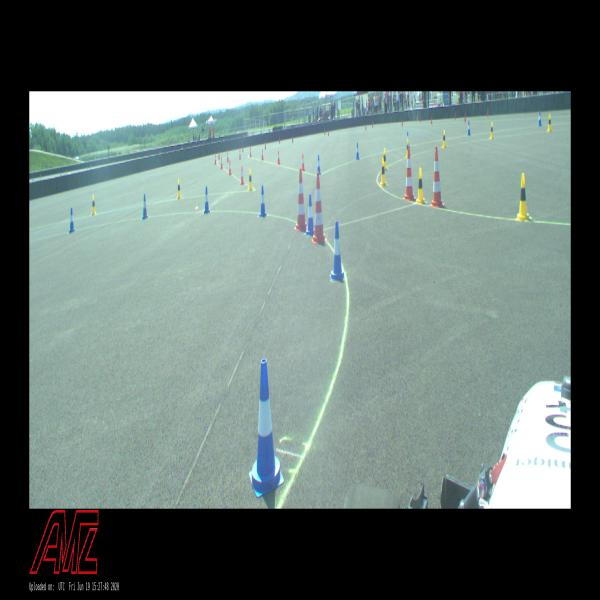blue_cone: (249, 358, 284, 498), (330, 222, 345, 280), (306, 194, 314, 236), (259, 186, 267, 217), (69, 208, 75, 234), (204, 187, 210, 213), (142, 194, 148, 219), (317, 154, 321, 175), (467, 121, 471, 136), (356, 142, 359, 160), (538, 111, 541, 126), (406, 132, 409, 145)
large_orange_cone: (311, 172, 327, 244), (429, 147, 445, 208), (294, 169, 307, 230), (402, 147, 416, 200)
orange_cone: (240, 166, 245, 184), (302, 153, 306, 172), (228, 160, 232, 176), (277, 150, 281, 165), (220, 156, 223, 169), (261, 148, 264, 160), (249, 147, 252, 158), (214, 154, 217, 165), (239, 149, 241, 160), (227, 152, 229, 162)
unknown_cone: (218, 152, 220, 160), (242, 146, 244, 152)
yellow_cone: (515, 173, 531, 222), (415, 168, 426, 204), (380, 158, 387, 186), (176, 179, 182, 199), (248, 168, 253, 191), (382, 148, 387, 170), (547, 114, 552, 132), (92, 195, 96, 216), (489, 123, 494, 139), (442, 130, 446, 148), (406, 140, 409, 158)
